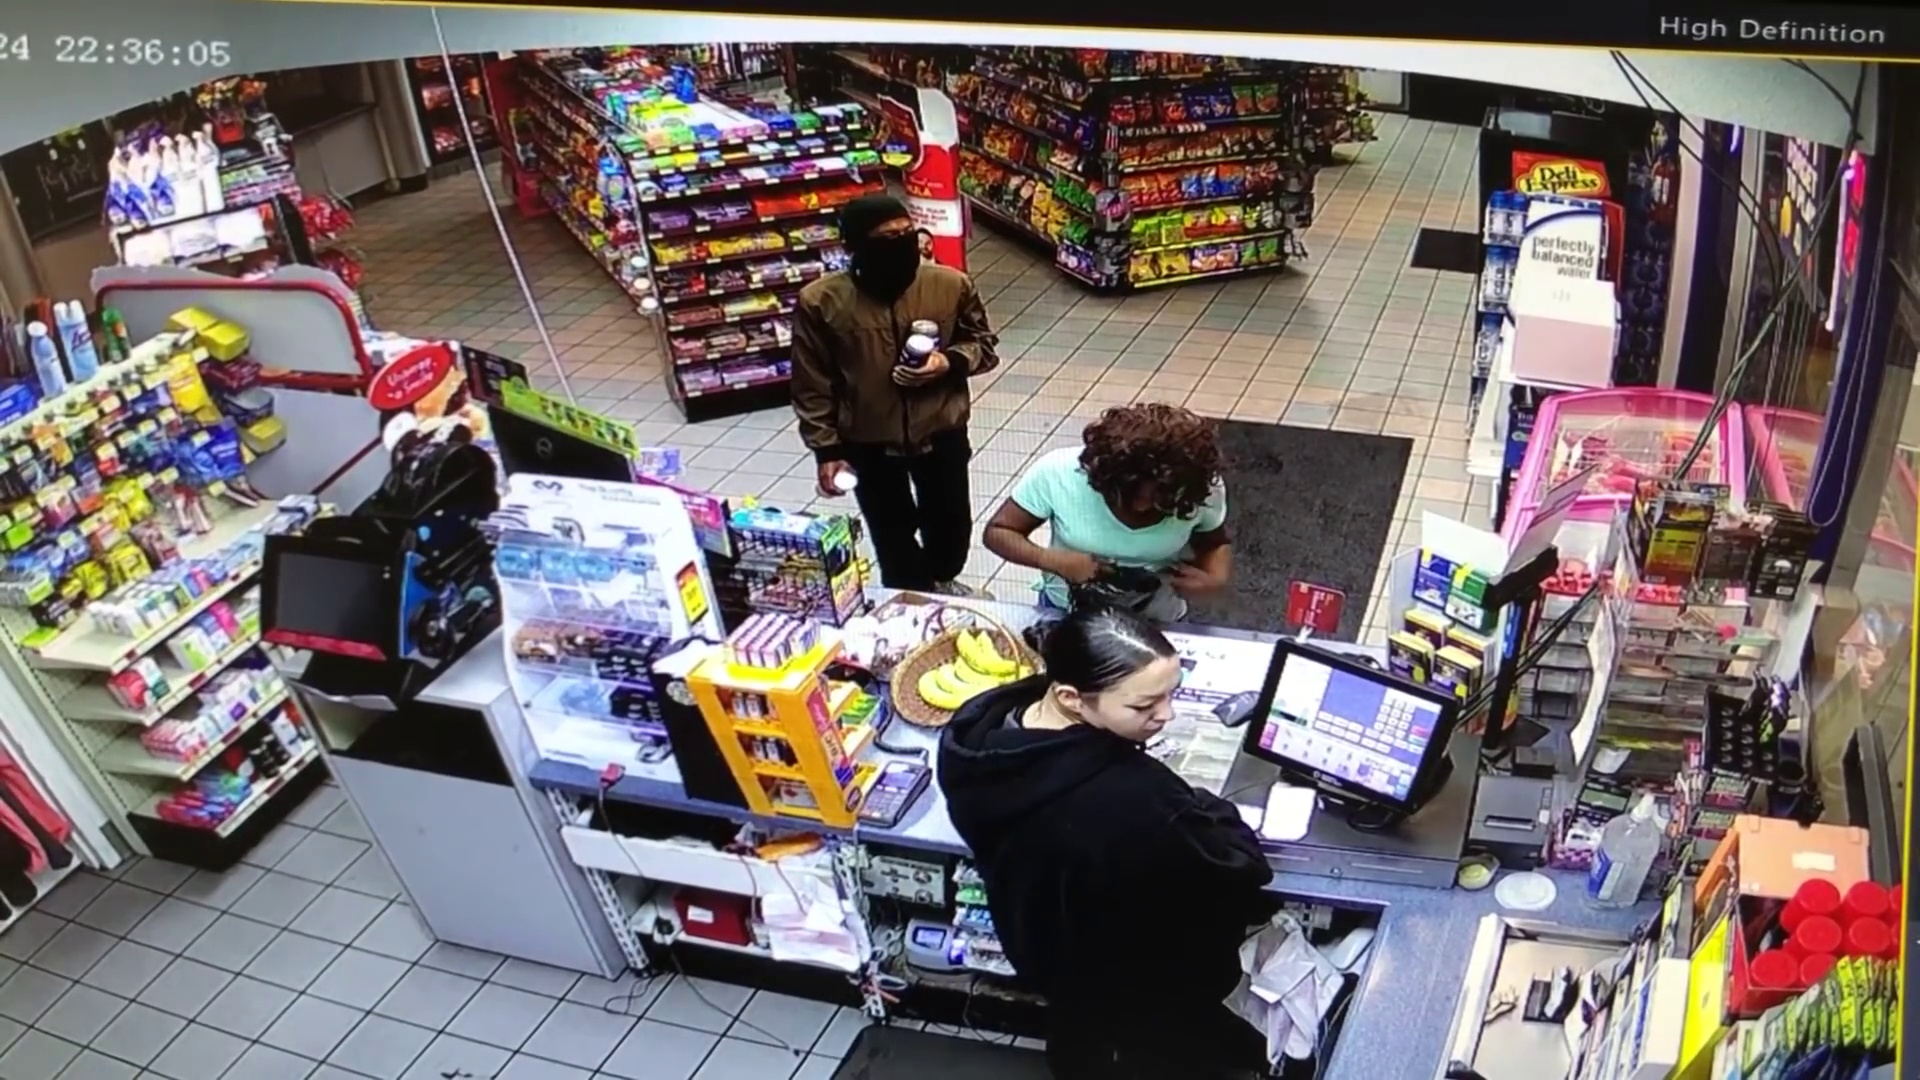face: (1100, 652, 1177, 744), (856, 208, 921, 273)
